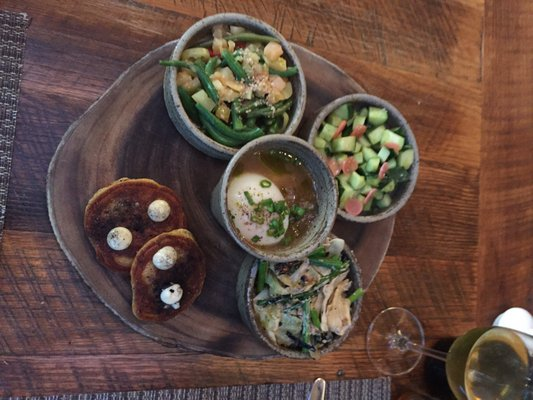pizza: (464, 326, 533, 400)
sushi: (160, 13, 307, 163), (210, 136, 337, 262), (305, 92, 421, 225), (243, 239, 365, 359)
